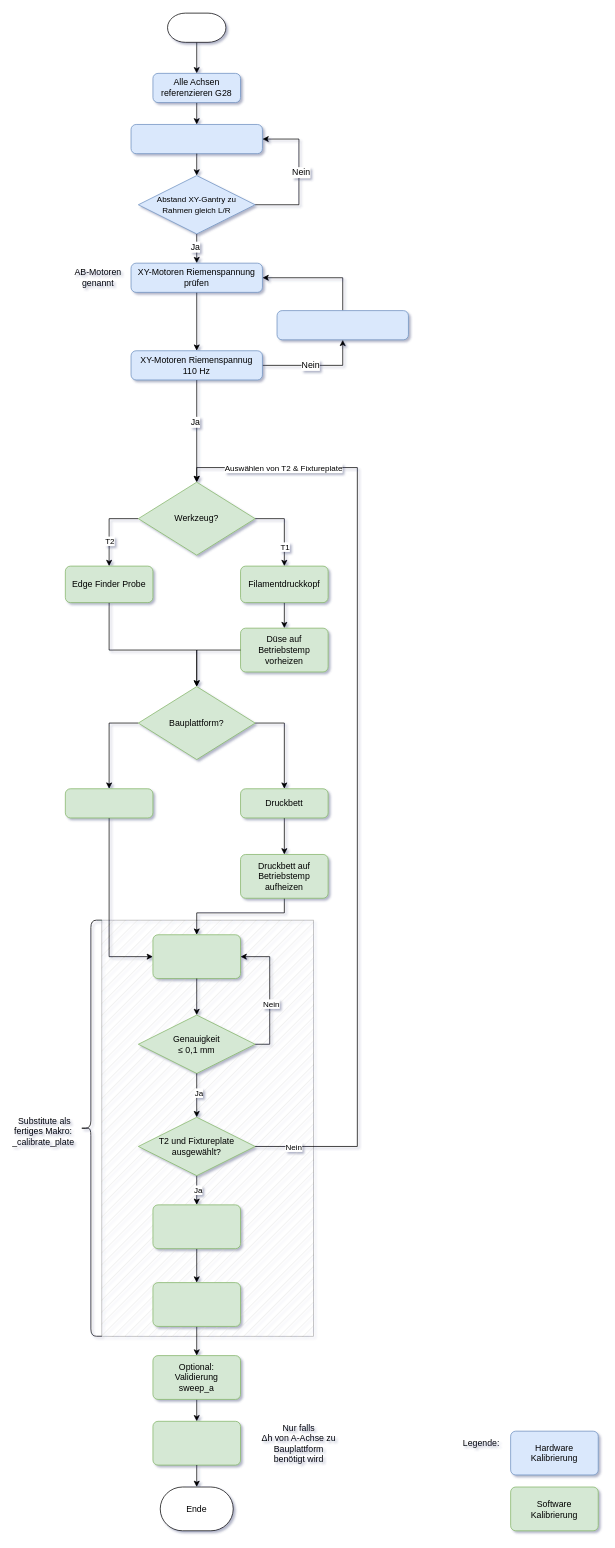
This 615x1548 diagram has some shape labels left out. The centre of each missing label's shape, as x and y in pixels:
"C-Achsen Offsets mit calibrate_c_zero setzen" goes at point (196, 1304).
"calibrate_a_zero" goes at point (196, 956).
"Fixtureplate" goes at point (109, 803).
"Optional: diff_pin_heatbed" goes at point (196, 1443).
"Start" goes at point (196, 27).
"XY-Motorriemen nachspannen" goes at point (342, 325).
"XY-Offsets mit probe_c_centre setzen" goes at point (196, 1226).
"Z-Riemenspannung prüfen selbe Hz auf allen 4 Z-Riemen" goes at point (196, 139).
